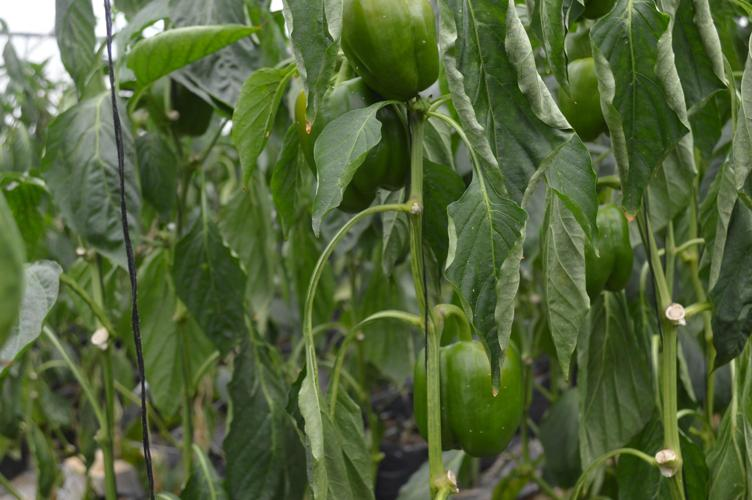BellPepper: (410, 336, 521, 460), (308, 81, 408, 207), (336, 4, 438, 92), (574, 204, 632, 300), (559, 60, 610, 144)
